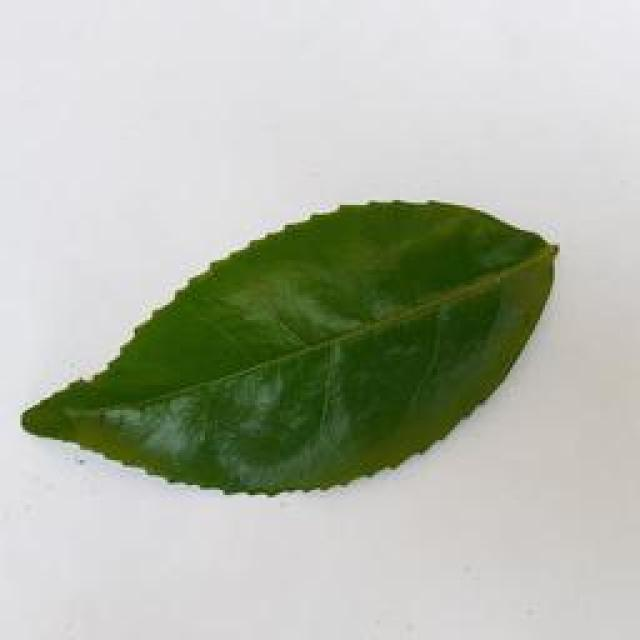Healthy: (9, 183, 612, 514)
